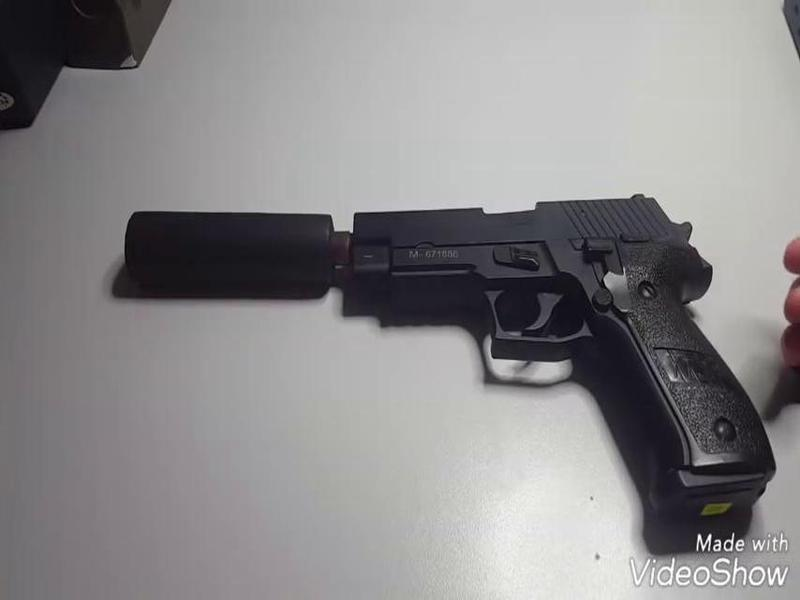Pistola: (342, 179, 777, 515)
